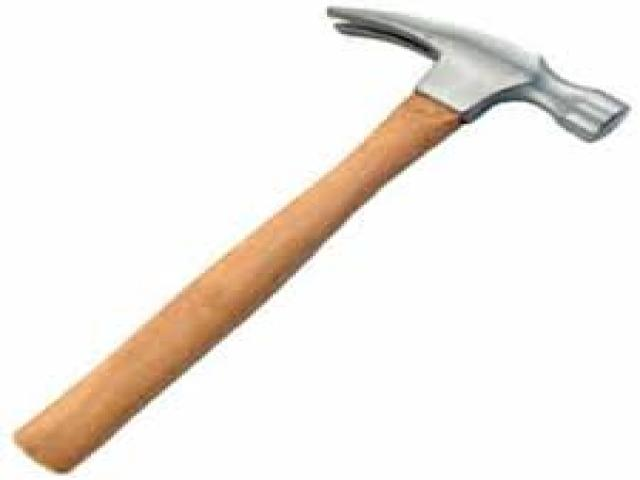Hammer: (18, 8, 629, 471)
